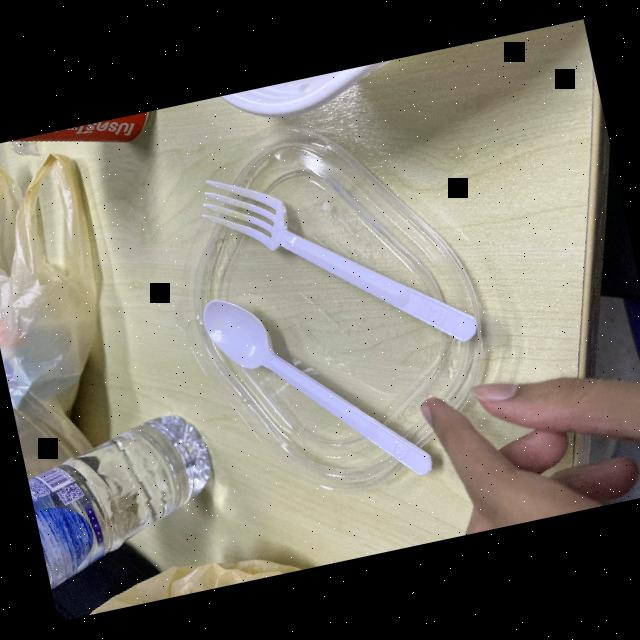plastic_cultery: (192, 118, 498, 402), (184, 250, 446, 517)
